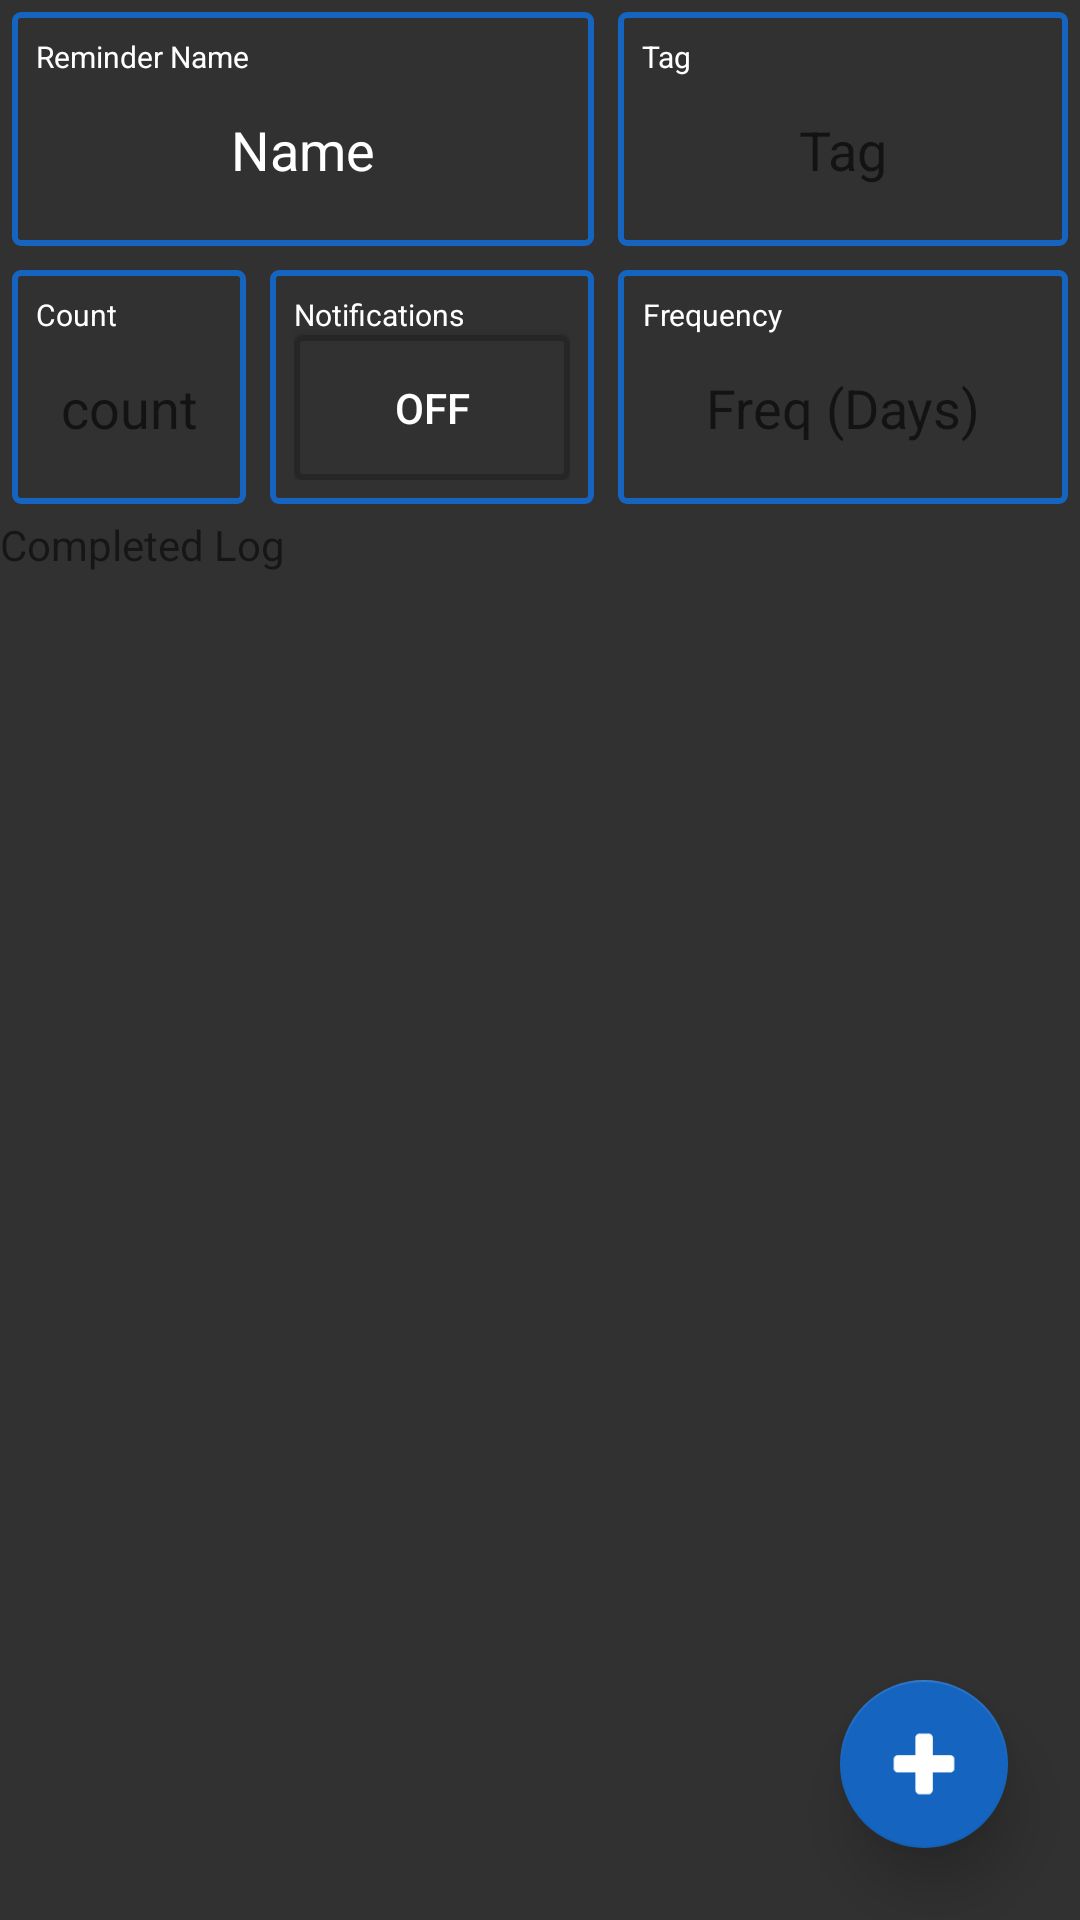

Point at icon controls on the screen. Image size 1080x1920, points as (x=x, y=y).
plus: (x=924, y=1764)
